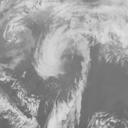cyclone: (32, 29, 87, 83)
